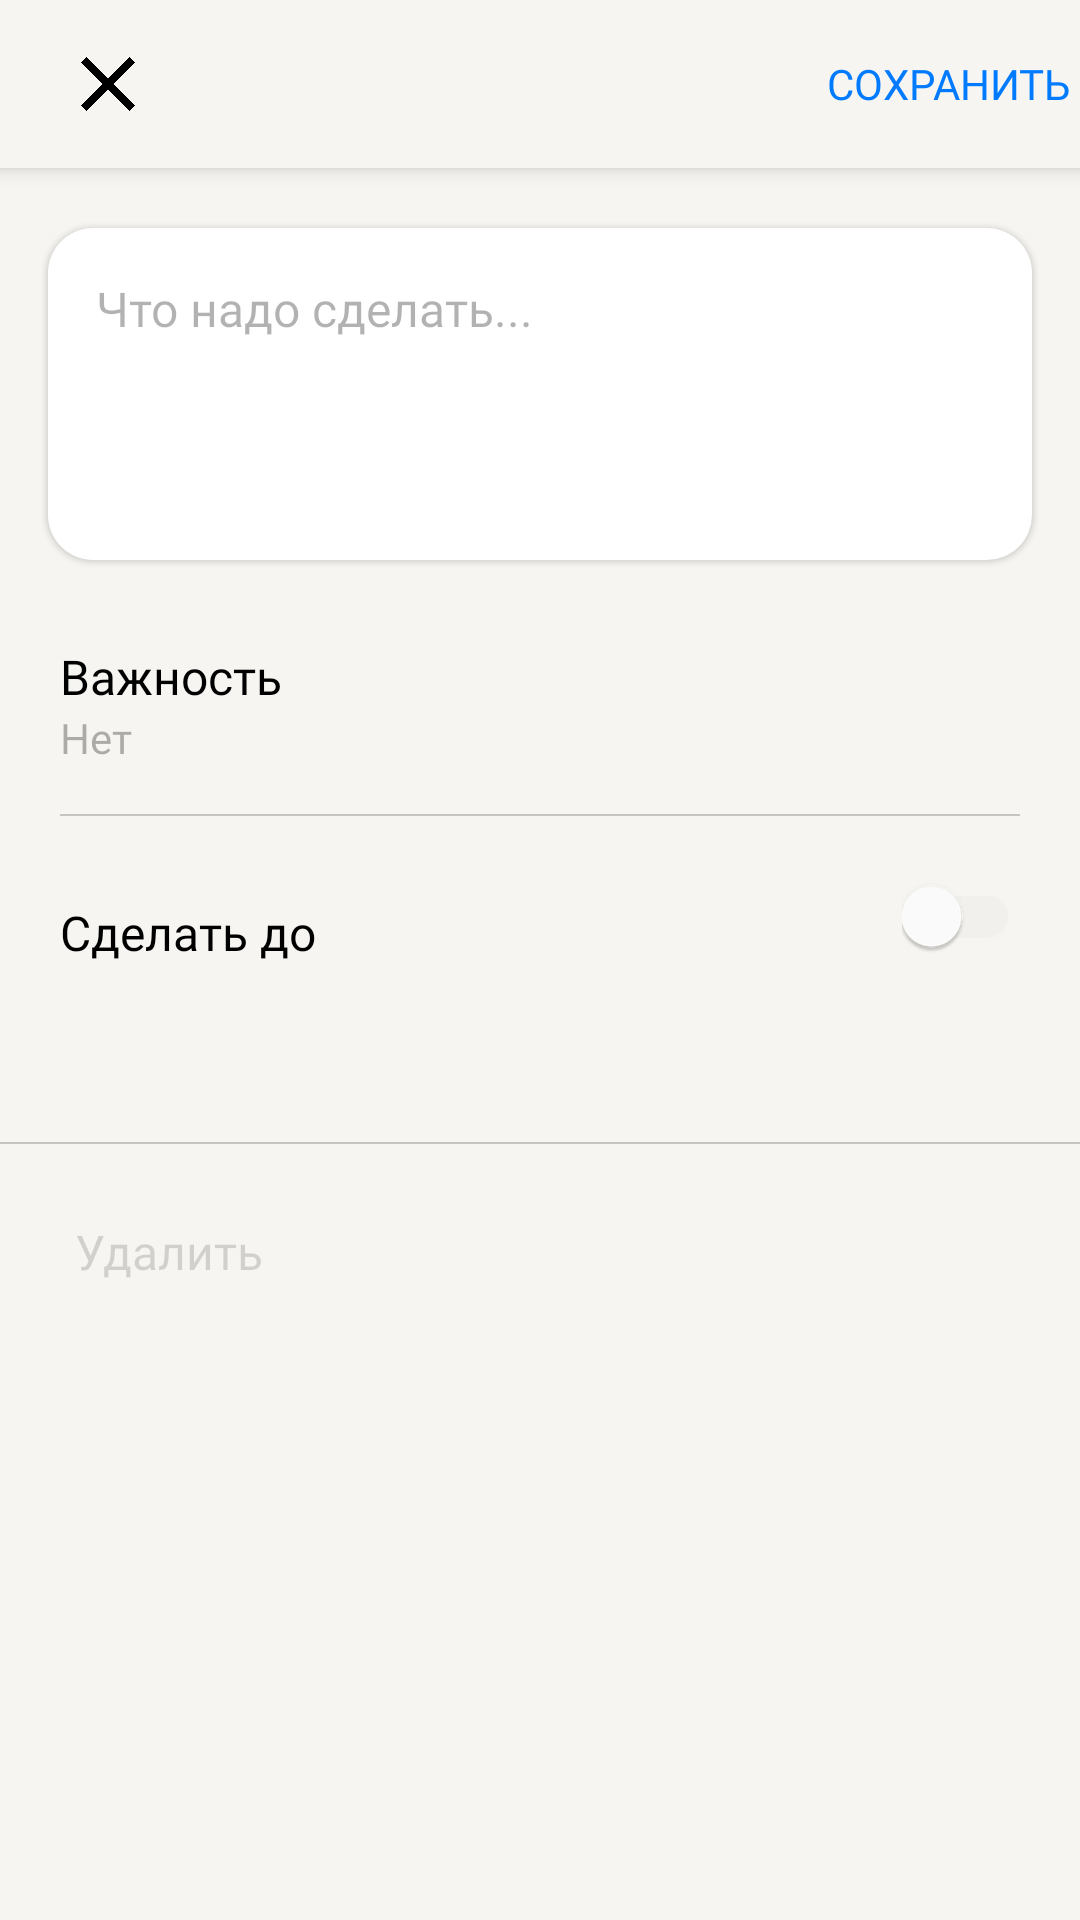

Named icons in this screenshot (1080×1920) and their centers, (x,y):
close: (108,84)
